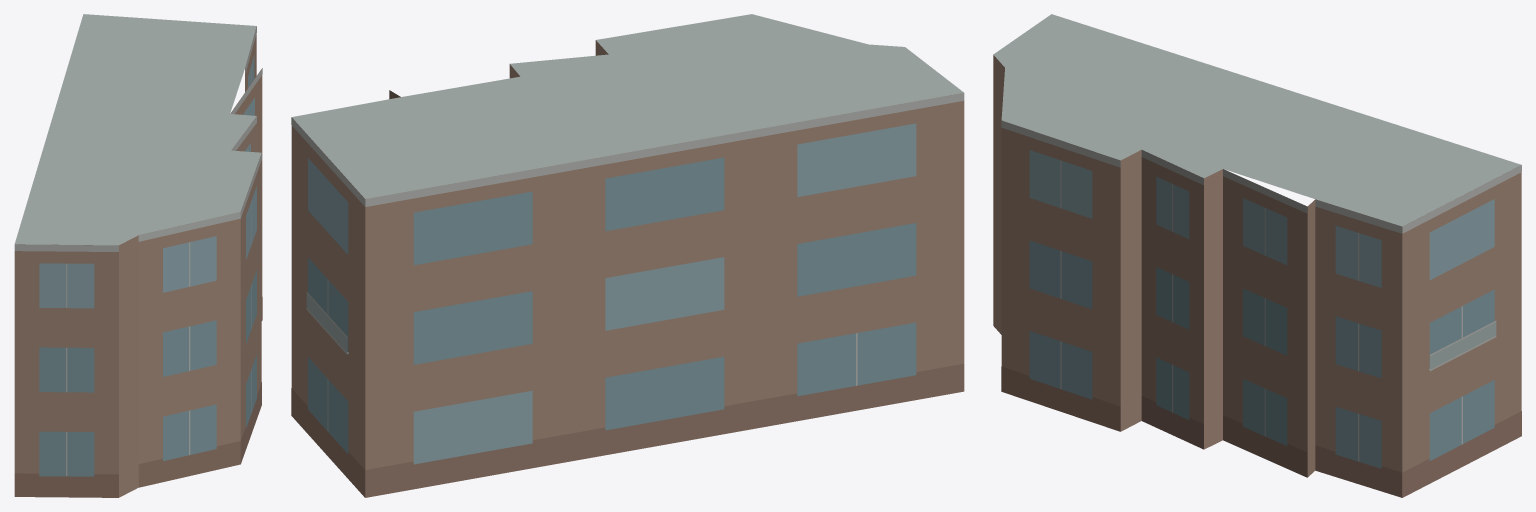
Rendered from survey-upis-32819247.glb.
The picture shows the model from 3 angles, left to right: view 1: azimuth 30°, elevation 25°; view 2: azimuth 150°, elevation 25°; view 3: azimuth 270°, elevation 25°; orthographic projection. The views are drawn at different scales.
Parts seen in each view (by area): view 1: survey-upis-32819247.tmp; view 2: survey-upis-32819247.tmp; view 3: survey-upis-32819247.tmp.
Part boxes in pixels (left/top/right/bottom): survey-upis-32819247.tmp: left=14, top=14, right=262, bottom=497; survey-upis-32819247.tmp: left=291, top=14, right=964, bottom=497; survey-upis-32819247.tmp: left=993, top=14, right=1521, bottom=497.
Bounding box in the file's own units: 15.38 × 9.15 × 16.16.
